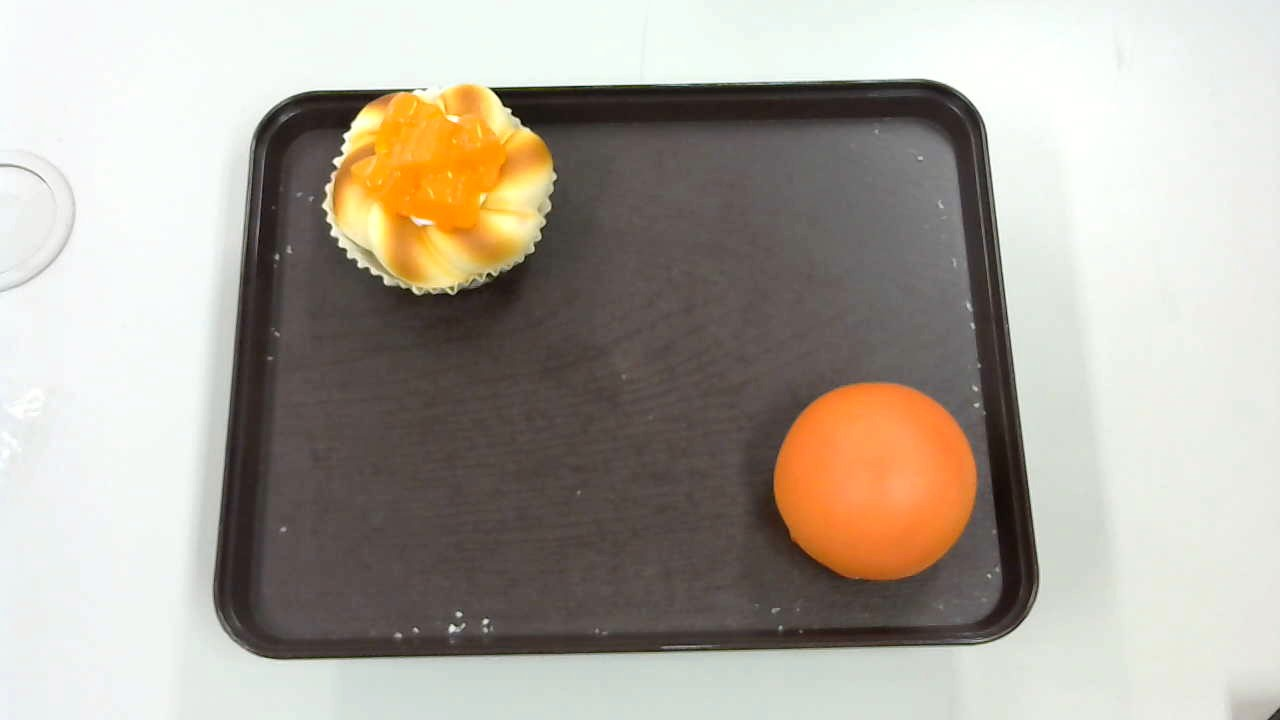bun: (774, 382, 977, 580)
mango tart: (323, 80, 558, 294)
